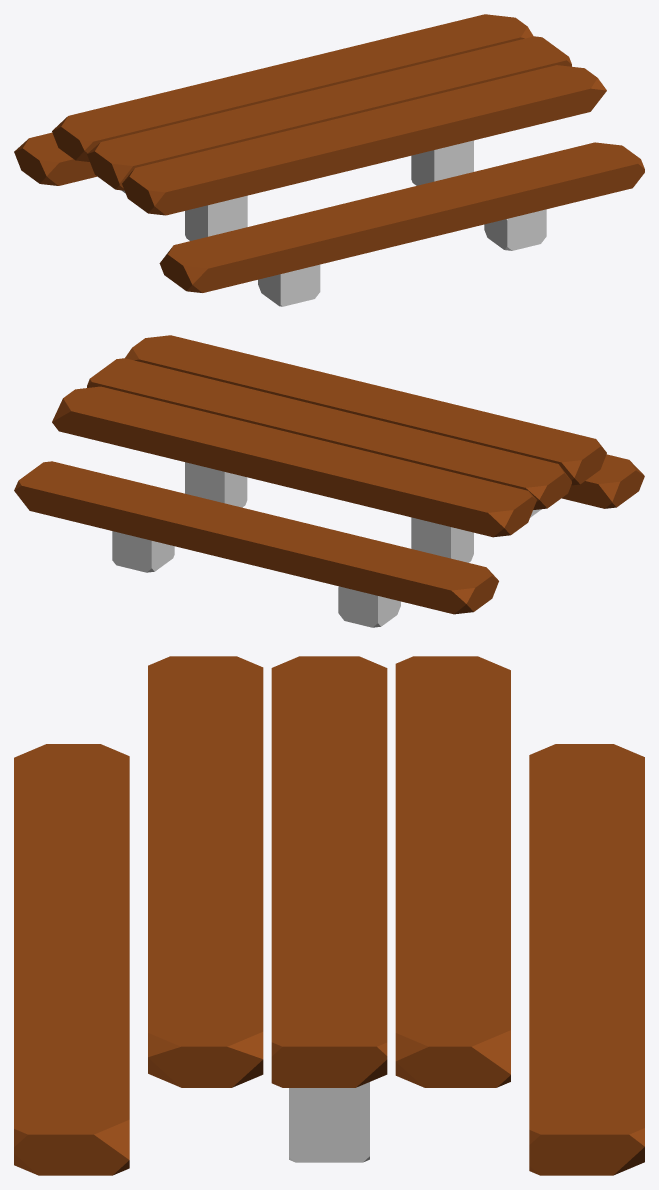
File: table.glb
3 renders of one model, top to bottom at view 1: azimuth 30°, elevation 25°; view 2: azimuth 150°, elevation 25°; view 3: azimuth 270°, elevation 25°, orthographic. The views are drawn at different scales.
Parts seen in each view (by area): view 1: table00.006; view 2: table00.006; view 3: table00.006.
Boxes of the visible parts, x1,y1,x2,y2 form: table00.006: (14, 14, 644, 306); table00.006: (14, 335, 644, 627); table00.006: (14, 656, 644, 1175).
Bounding box in the file's own units: 328 × 76.86 × 224.
